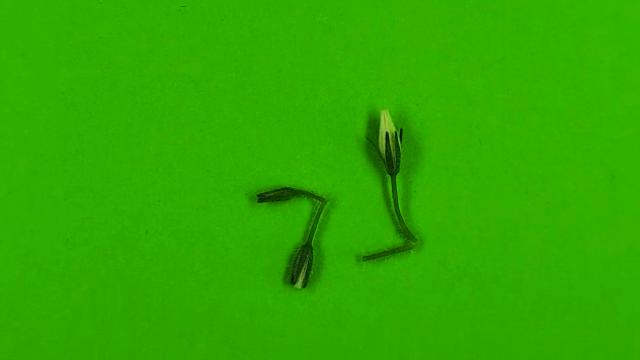Flower Bud: (375, 110, 402, 176), (288, 245, 314, 290), (256, 188, 302, 203)
